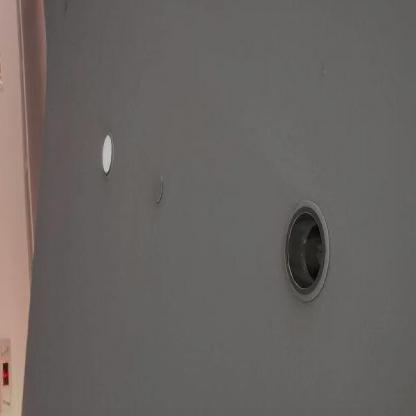light_off: (277, 178, 331, 313)
